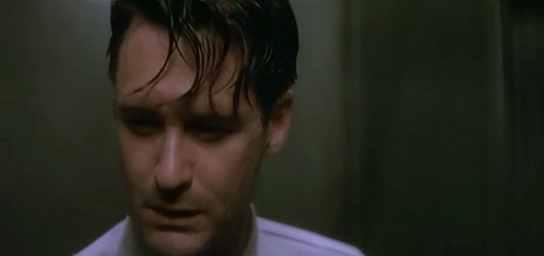cu: (1, 1, 544, 256)
face: (112, 48, 258, 256)
person: (71, 1, 365, 256)
